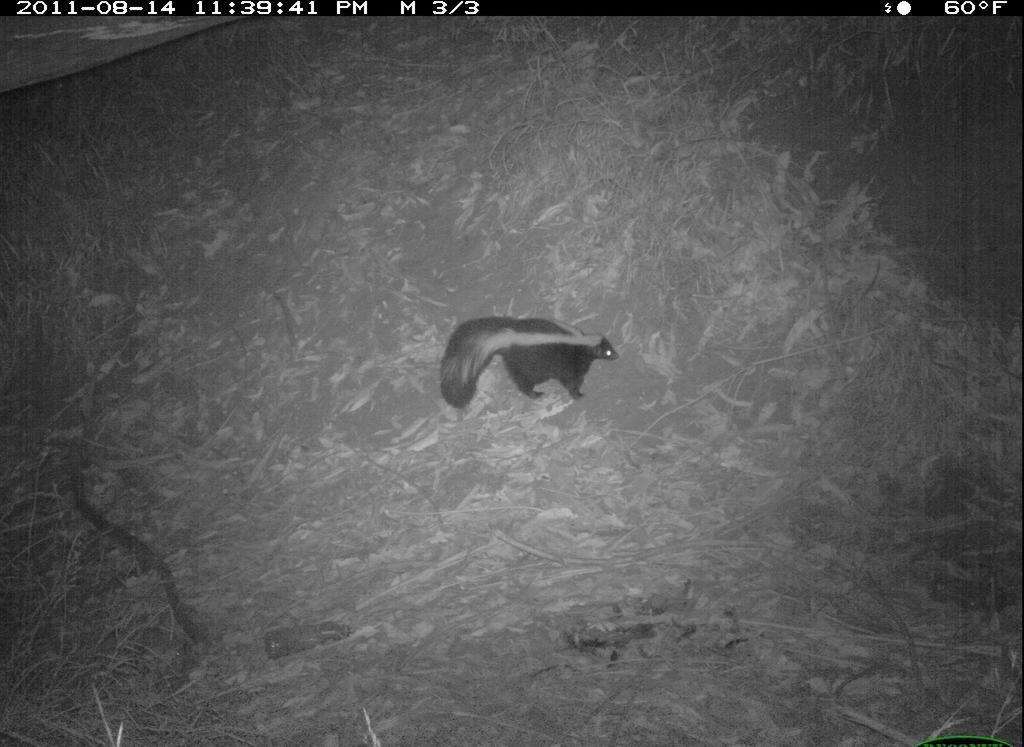skunk: (418, 269, 633, 459)
